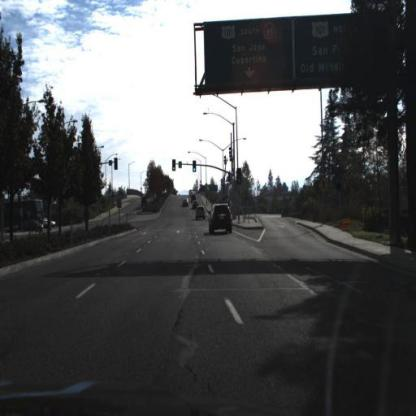car: (209, 202, 233, 234), (194, 201, 207, 224), (20, 218, 42, 230), (42, 217, 55, 229), (195, 205, 205, 220), (140, 194, 148, 208), (182, 198, 189, 208), (194, 199, 198, 209)
trafficLight-Green: (235, 166, 244, 186), (170, 157, 178, 176), (191, 159, 197, 177), (236, 168, 242, 184), (191, 159, 197, 172), (172, 158, 176, 171)
truck: (0, 198, 45, 220)
